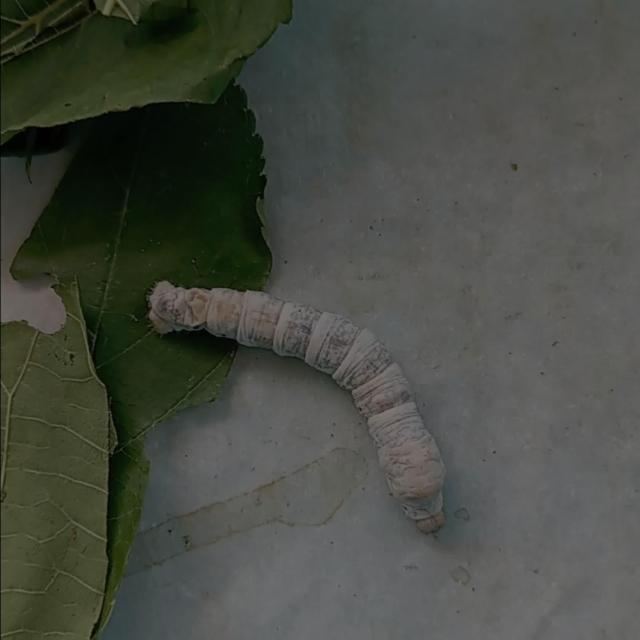Grasserie: (139, 270, 458, 540)
